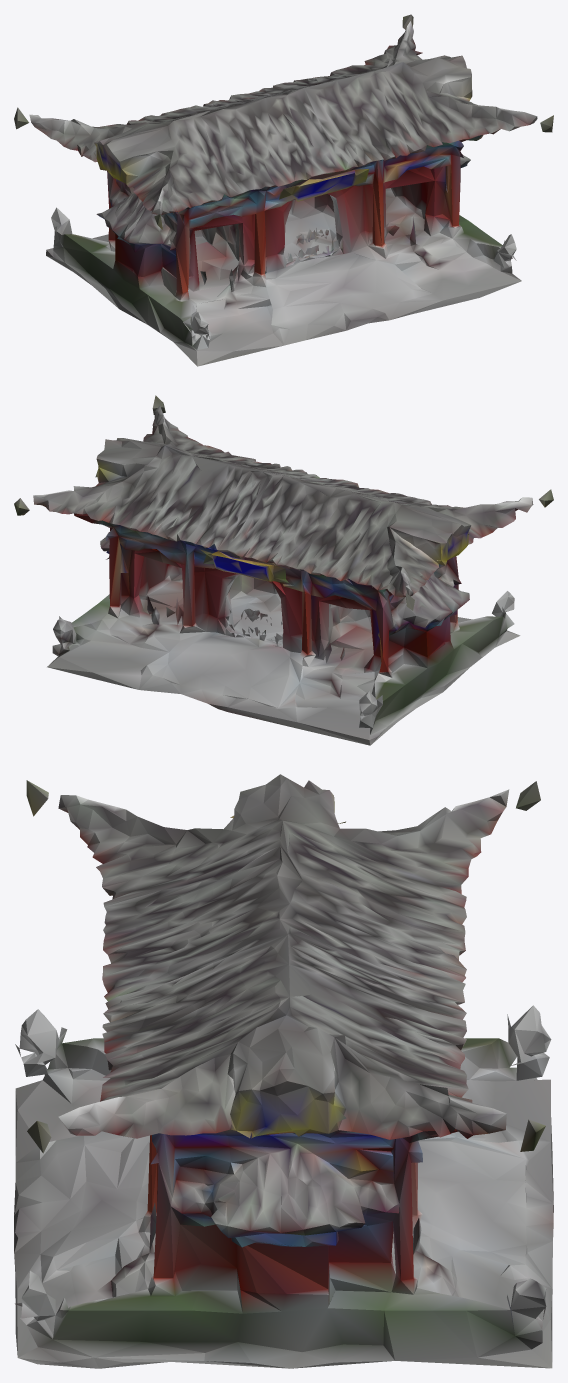
File: lib_paifang.vc.glb
The picture shows the model from 3 angles, top to bottom: view 1: azimuth 30°, elevation 25°; view 2: azimuth 150°, elevation 25°; view 3: azimuth 270°, elevation 25°; orthographic projection. The views are drawn at different scales.
Parts seen in each view (by area): view 1: lib_paifang; view 2: lib_paifang; view 3: lib_paifang.
Part boxes in pixels (left/top/right/bottom): lib_paifang: left=14, top=14, right=553, bottom=366; lib_paifang: left=14, top=395, right=553, bottom=745; lib_paifang: left=14, top=774, right=553, bottom=1368.
Size of the model in its own units: 1.89 by 0.8076 by 1.25.
